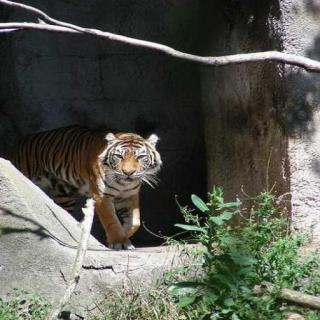Tiger: (9, 107, 172, 250)
